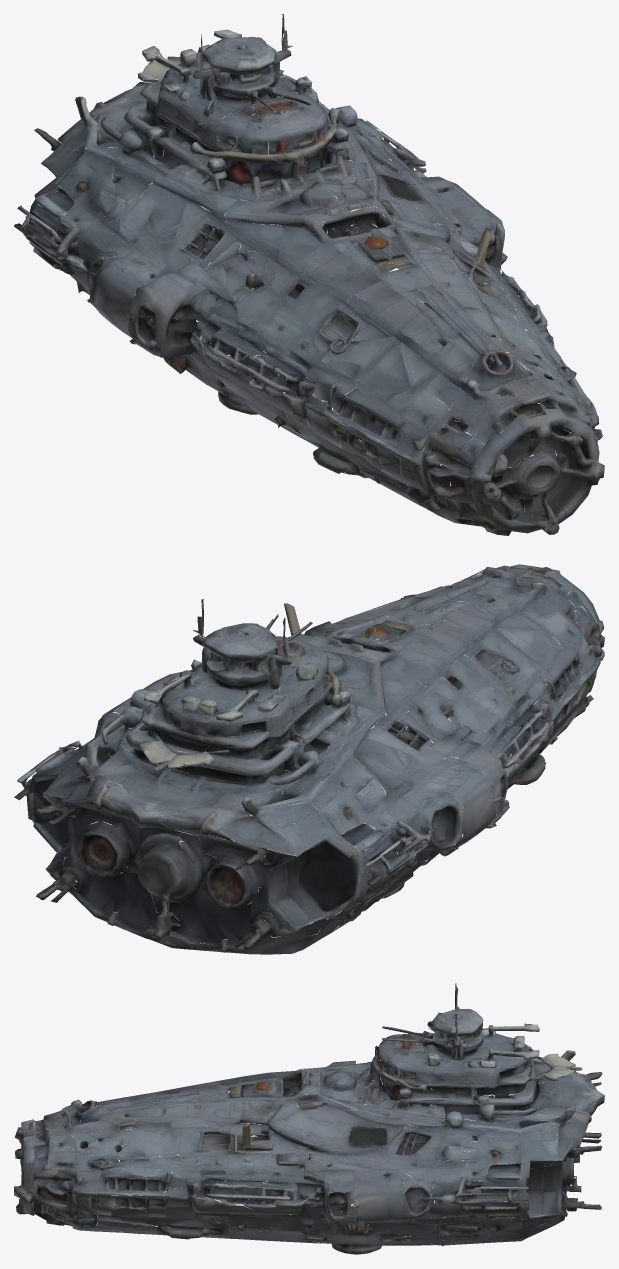
File: meridian.glb
The picture shows the model from 3 angles, top to bottom: view 1: azimuth 30°, elevation 25°; view 2: azimuth 150°, elevation 25°; view 3: azimuth 270°, elevation 25°; orthographic projection. The views are drawn at different scales.
Visible parts, largest first — view 1: tripo_node_a3bcc60e-ea0d-40a3-abbc-c26b880c5fdf; view 2: tripo_node_a3bcc60e-ea0d-40a3-abbc-c26b880c5fdf; view 3: tripo_node_a3bcc60e-ea0d-40a3-abbc-c26b880c5fdf.
Part boxes in pixels (x1,y1,x2,y2): tripo_node_a3bcc60e-ea0d-40a3-abbc-c26b880c5fdf: (14, 14, 604, 535); tripo_node_a3bcc60e-ea0d-40a3-abbc-c26b880c5fdf: (14, 564, 604, 954); tripo_node_a3bcc60e-ea0d-40a3-abbc-c26b880c5fdf: (14, 983, 604, 1254).
Size of the model in its own units: 274 by 237 by 520.
Materials: 1 (1 with a texture image).
